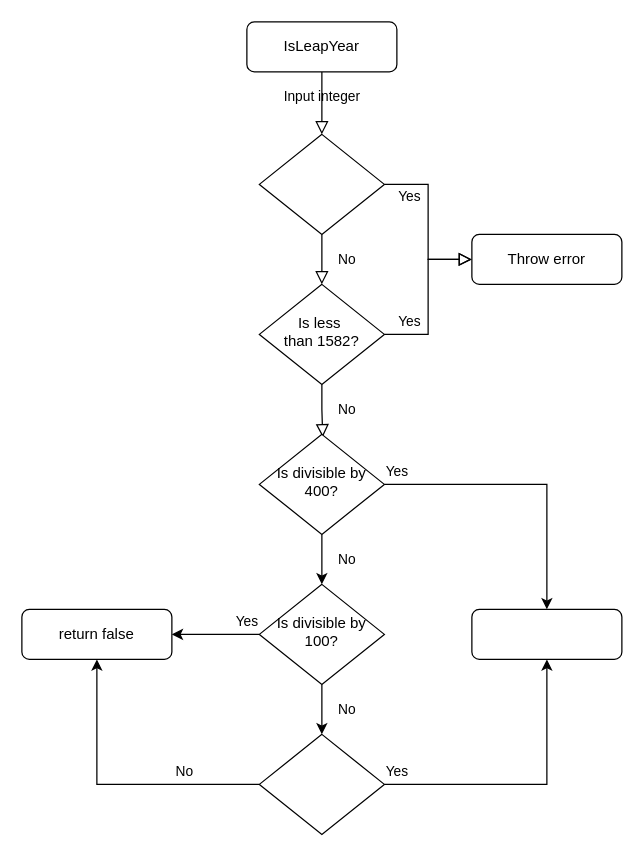
Image size: 644x856. Some labels were removed from this diagram. The centre of each missing label's shape, as x and y in pixels:
"Is 0?" belongs at (321,183).
"Is divisible by 4?" belongs at (321,783).
"return true" belongs at (546,633).
